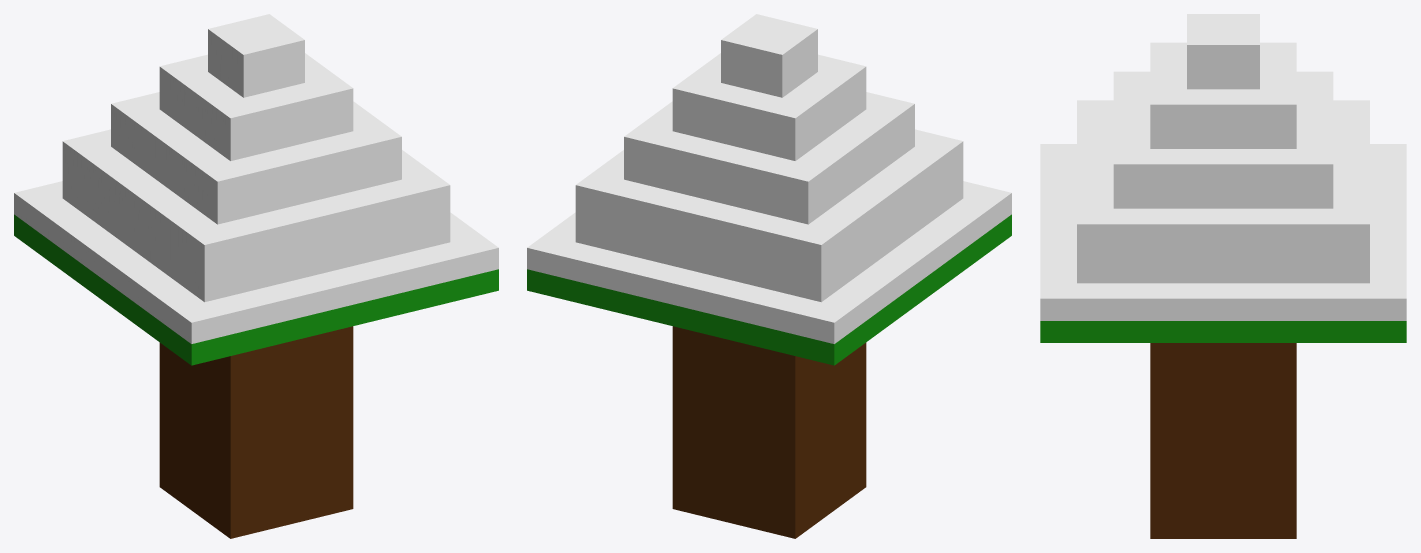
The model's file is tree2.FBX.
The picture shows the model from 3 angles, left to right: view 1: azimuth 30°, elevation 25°; view 2: azimuth 150°, elevation 25°; view 3: azimuth 270°, elevation 25°; orthographic projection. The views are drawn at different scales.
Visible parts, largest first — view 1: Green, brown010, Object001; view 2: Green, brown010, Object001; view 3: Green, brown010, Object001.
Boxes of the visible parts, box(x1,y1,x2,y2) form: Green: box(14, 14, 498, 343); brown010: box(159, 326, 353, 538); Object001: box(14, 214, 498, 365); Green: box(527, 14, 1011, 343); brown010: box(672, 326, 866, 538); Object001: box(527, 214, 1011, 365); Green: box(1040, 14, 1406, 320); brown010: box(1150, 343, 1296, 538); Object001: box(1040, 321, 1406, 342).
Bounding box in the file's own units: 11.25 × 16.21 × 11.25.
